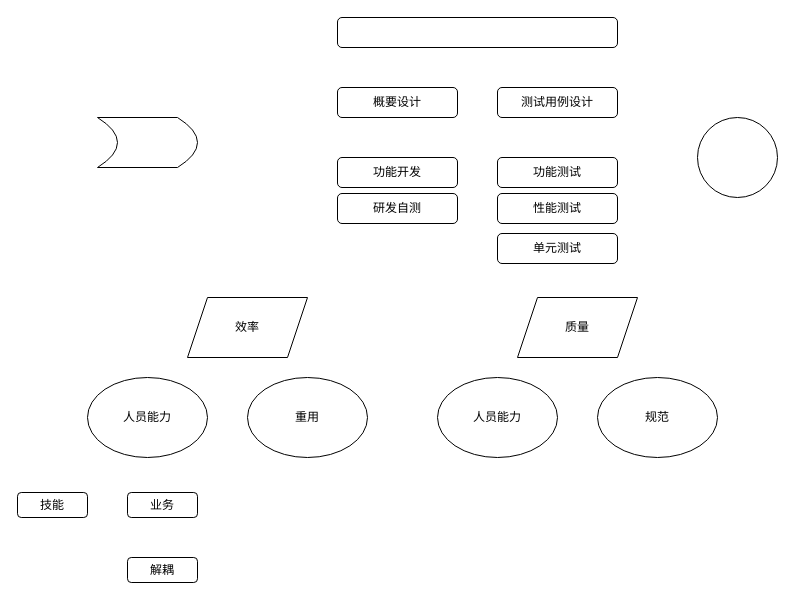
Some shapes in this 795 by 600 pixel diagram are drawn without their labels. Here are the shapes that lost their labels. From the top down, the centre of each, then its label:
At point 477,32: "需求分析".
At point 147,142: "需求".
At point 737,157: "版本功 能交付".
